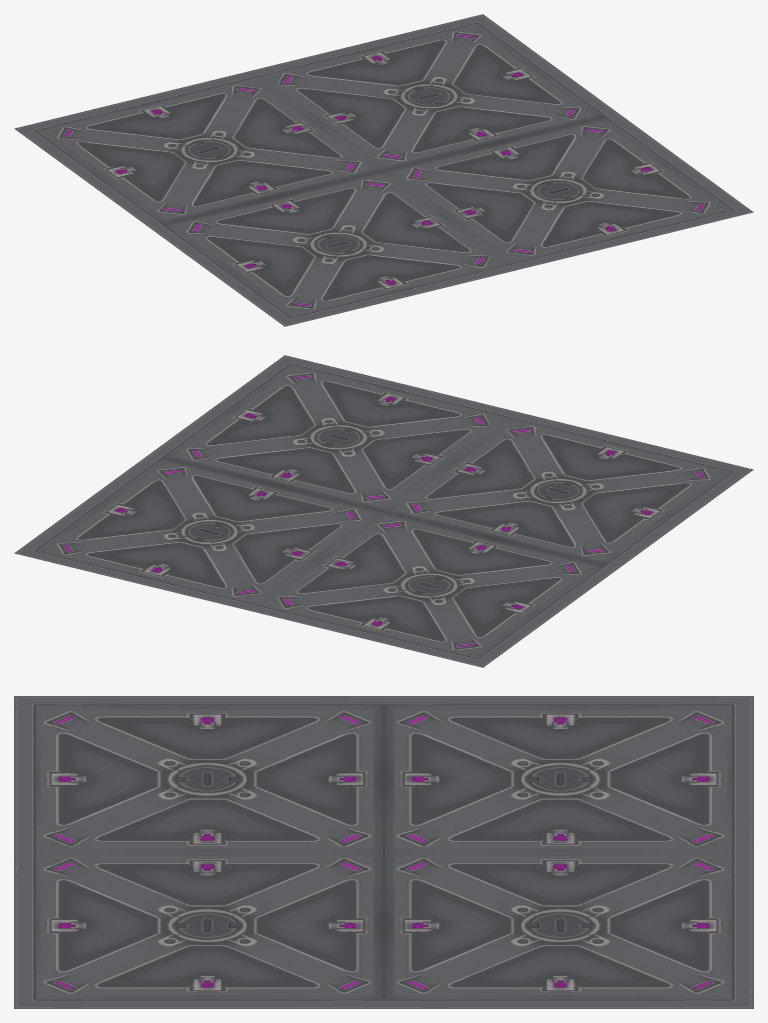
Rendered from Platform_X.gltf.
3 renders of one model, top to bottom at view 1: azimuth 30°, elevation 25°; view 2: azimuth 150°, elevation 25°; view 3: azimuth 270°, elevation 25°, orthographic. The views are drawn at different scales.
Parts seen in each view (by area): view 1: Platform_X; view 2: Platform_X; view 3: Platform_X.
Part boxes in pixels (bbox=[...]): Platform_X: bbox=[14, 14, 753, 326]; Platform_X: bbox=[14, 355, 753, 667]; Platform_X: bbox=[14, 696, 753, 1008].
Bounding box in the file's own units: 4 × 0 × 4.
Materials: 1 (1 with a texture image).
